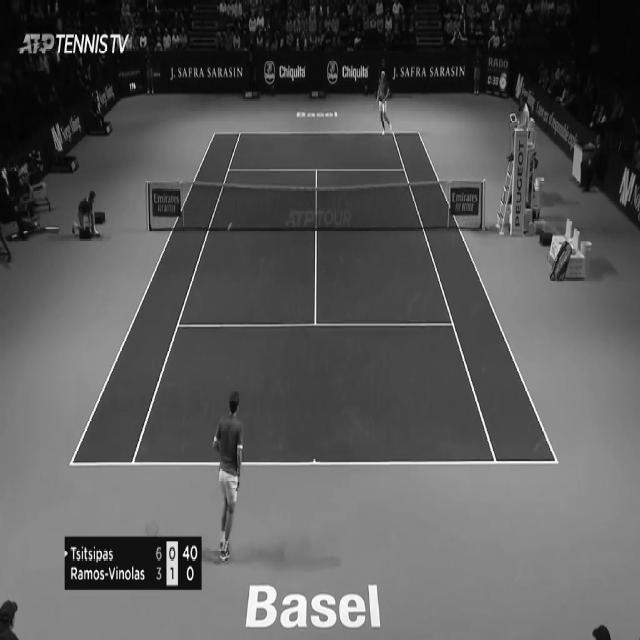tennis-court: (69, 131, 559, 466)
